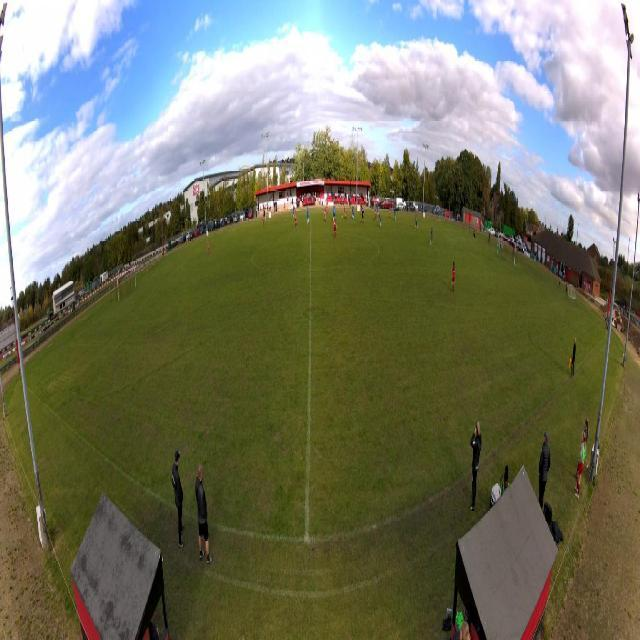ball: (342, 215, 343, 219)
player: (451, 260, 456, 292), (333, 217, 337, 238), (429, 226, 433, 246), (324, 204, 328, 223), (342, 206, 347, 221), (361, 206, 365, 224), (333, 205, 337, 222), (351, 204, 355, 220), (414, 214, 418, 230), (295, 208, 298, 229), (307, 206, 310, 225), (207, 236, 210, 254), (498, 240, 501, 257), (379, 212, 382, 228), (394, 206, 397, 222), (376, 203, 379, 217), (389, 205, 392, 219), (292, 205, 295, 219), (374, 206, 376, 222), (263, 211, 265, 227), (360, 204, 363, 213)
